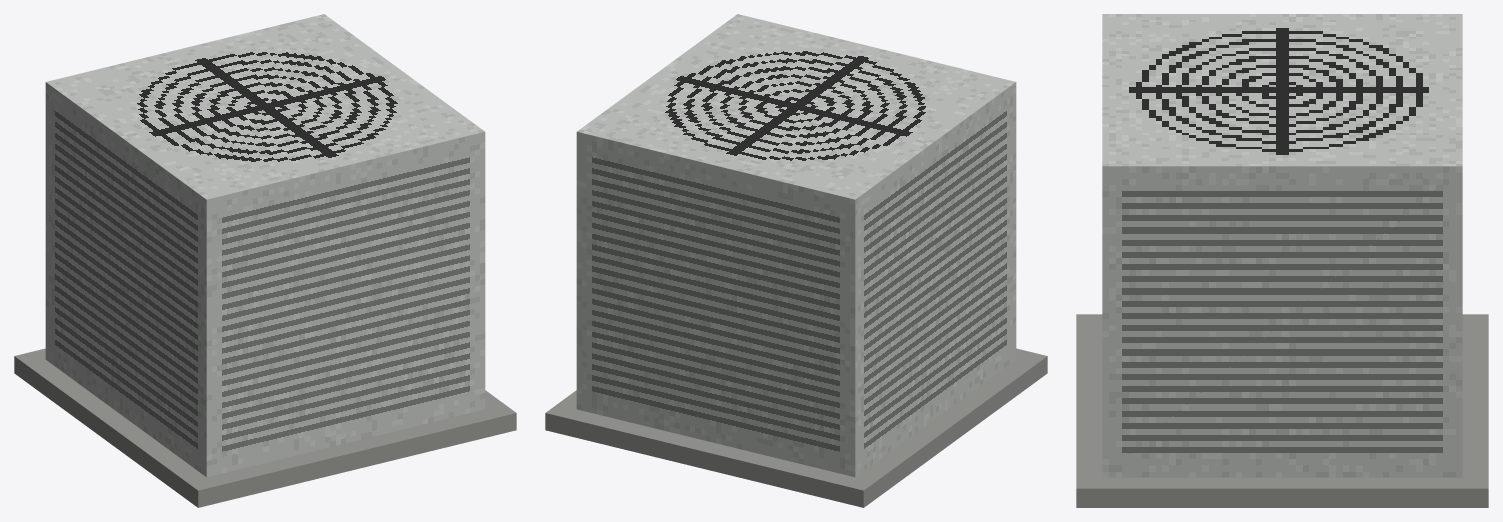
Rendered from f_air_conditioner.glb.
The picture shows the model from 3 angles, left to right: view 1: azimuth 30°, elevation 25°; view 2: azimuth 150°, elevation 25°; view 3: azimuth 270°, elevation 25°; orthographic projection. The views are drawn at different scales.
Parts seen in each view (by area): view 1: block_body, block_pad; view 2: block_body, block_pad; view 3: block_body, block_pad.
Part boxes in pixels (x1,y1,x2,y2): block_body: [45, 14, 485, 477]; block_pad: [14, 348, 516, 507]; block_body: [576, 14, 1016, 477]; block_pad: [545, 348, 1047, 507]; block_body: [1102, 14, 1462, 477]; block_pad: [1076, 314, 1488, 507].
Bounding box in the file's own units: 0.96 × 0.85 × 0.96.
1 material, 1 textured.
